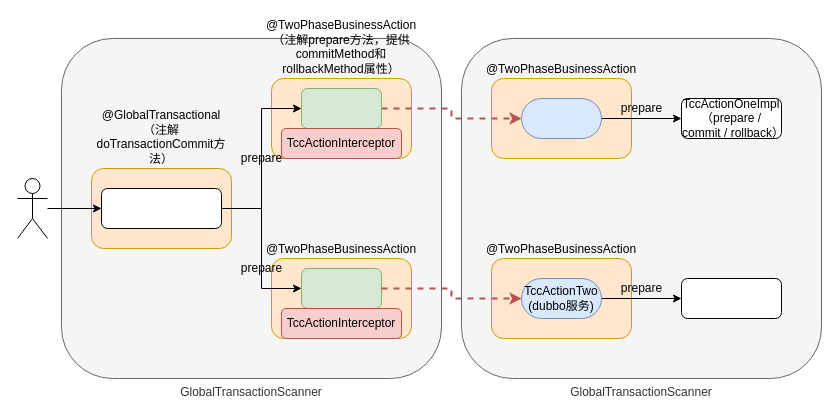
Image size: 839x416. Some labels were removed from this diagram. The centre of each missing label's shape, as x and y in pixels:
TccActionOne (dubbo引用): (x=341, y=108)
TccActionOne (dubbo服务): (x=561, y=118)
TccActionTwo (dubbo引用): (x=341, y=288)
TccActionTwoImpl （prepare / commit / rollback）: (x=731, y=298)
TccTransactionService: (x=161, y=208)
